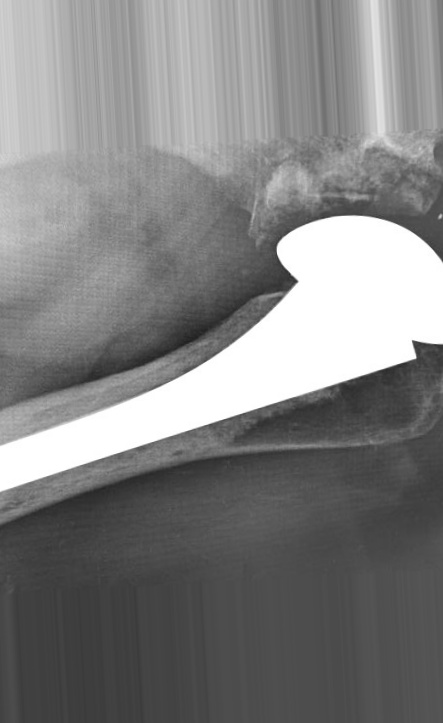Shoulder - Anotomyhead - Stryker: (266, 205, 443, 380)
Shoulder - Anotomytail - Stryker: (227, 261, 434, 418)
